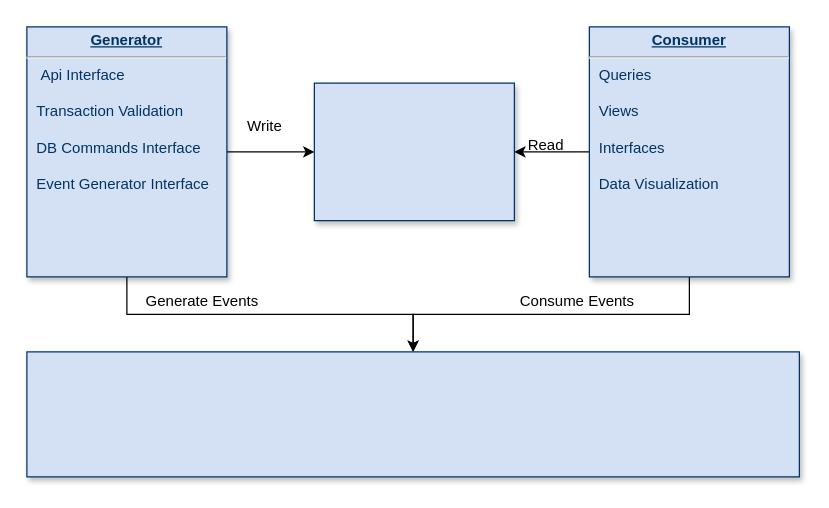
Image size: 829x508. Some labels were removed from this diagram. The centre of each missing label's shape, as x and y in pixels:
Database: the point at 415,153
Event Stream (Queue) Events: the point at 414,416
